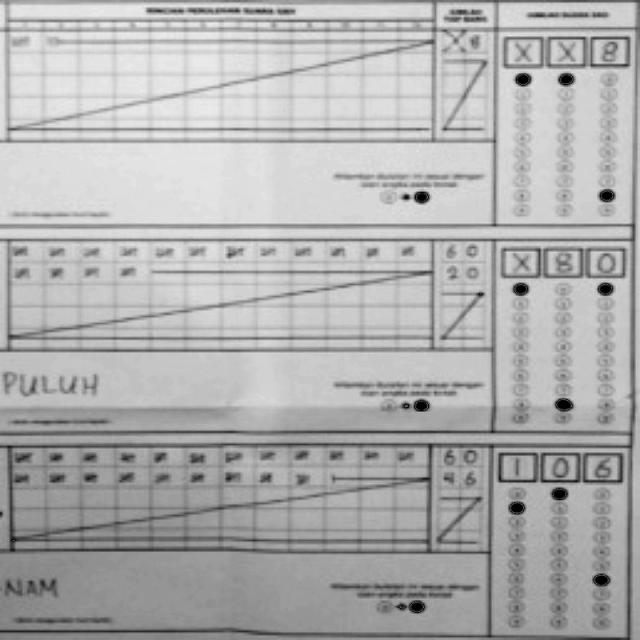Suara: (500, 29, 631, 70), (492, 444, 626, 484), (496, 242, 626, 278)
